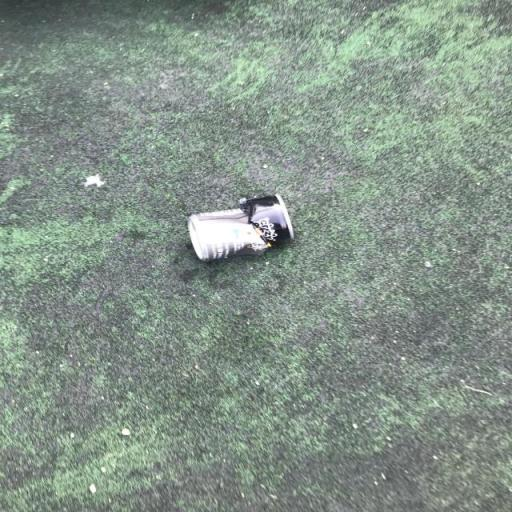metal: (159, 183, 336, 270)
